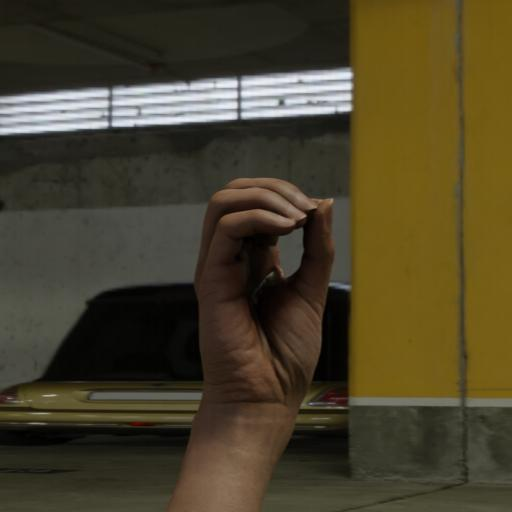O: (184, 168, 351, 440)
